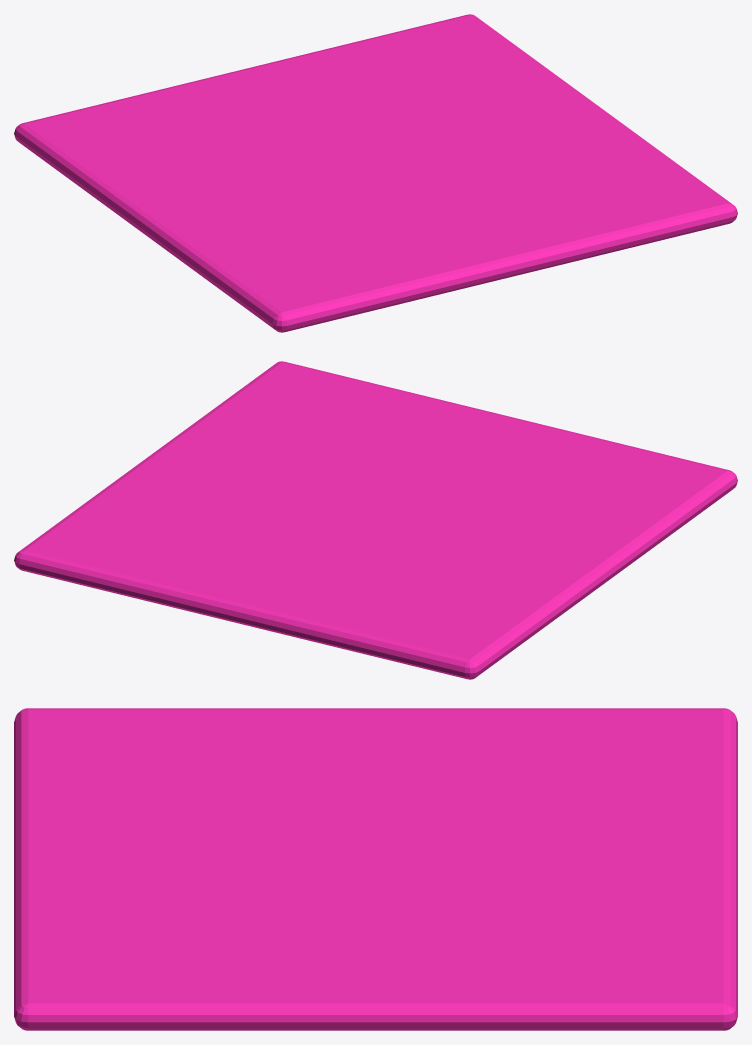
File: 方块动画.fbx
3 views of the same model, one above another, from view 1: azimuth 30°, elevation 25°; view 2: azimuth 150°, elevation 25°; view 3: azimuth 270°, elevation 25° (orthographic). The views are drawn at different scales.
Parts seen in each view (by area): view 1: 立方体; view 2: 立方体; view 3: 立方体.
Part boxes in pixels (box(x1,y1,x2,y2)): 立方体: box(14, 14, 737, 332); 立方体: box(14, 361, 737, 679); 立方体: box(14, 708, 737, 1030).
Size of the model in its own units: 150 by 6 by 150.
